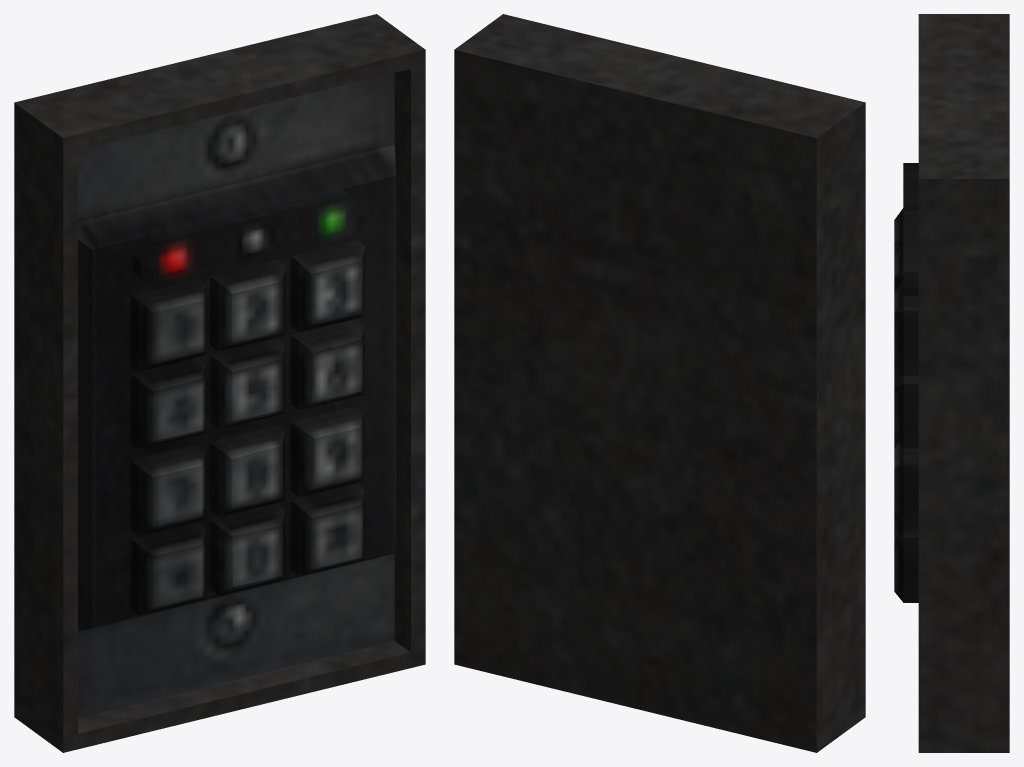
Rendered from keypad_2.fbx.
The picture shows the model from 3 angles, left to right: view 1: azimuth 30°, elevation 25°; view 2: azimuth 150°, elevation 25°; view 3: azimuth 270°, elevation 25°; orthographic projection. The views are drawn at different scales.
Visible parts, largest first — view 1: keypad_2; view 2: keypad_2; view 3: keypad_2.
Part boxes in pixels (<box>): keypad_2: <box>14,14,425,752</box>; keypad_2: <box>454,14,865,752</box>; keypad_2: <box>894,14,1009,752</box>.
Size of the model in its own units: 0.1284 by 0.208 by 0.038.
Materials: 2 (2 with a texture image).
